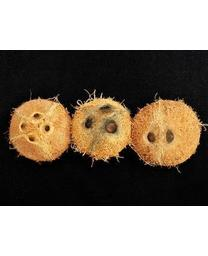coconut: (7, 82, 72, 168), (134, 98, 203, 173), (71, 98, 132, 165)
